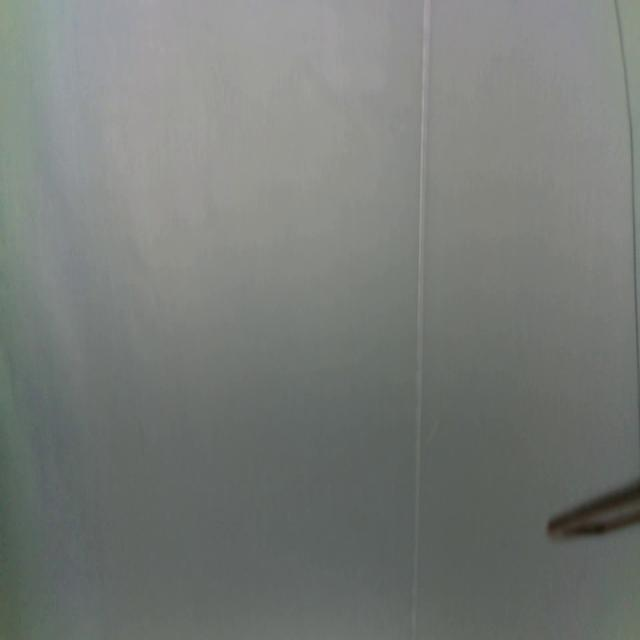crease: (410, 0, 430, 640), (612, 0, 640, 390)
